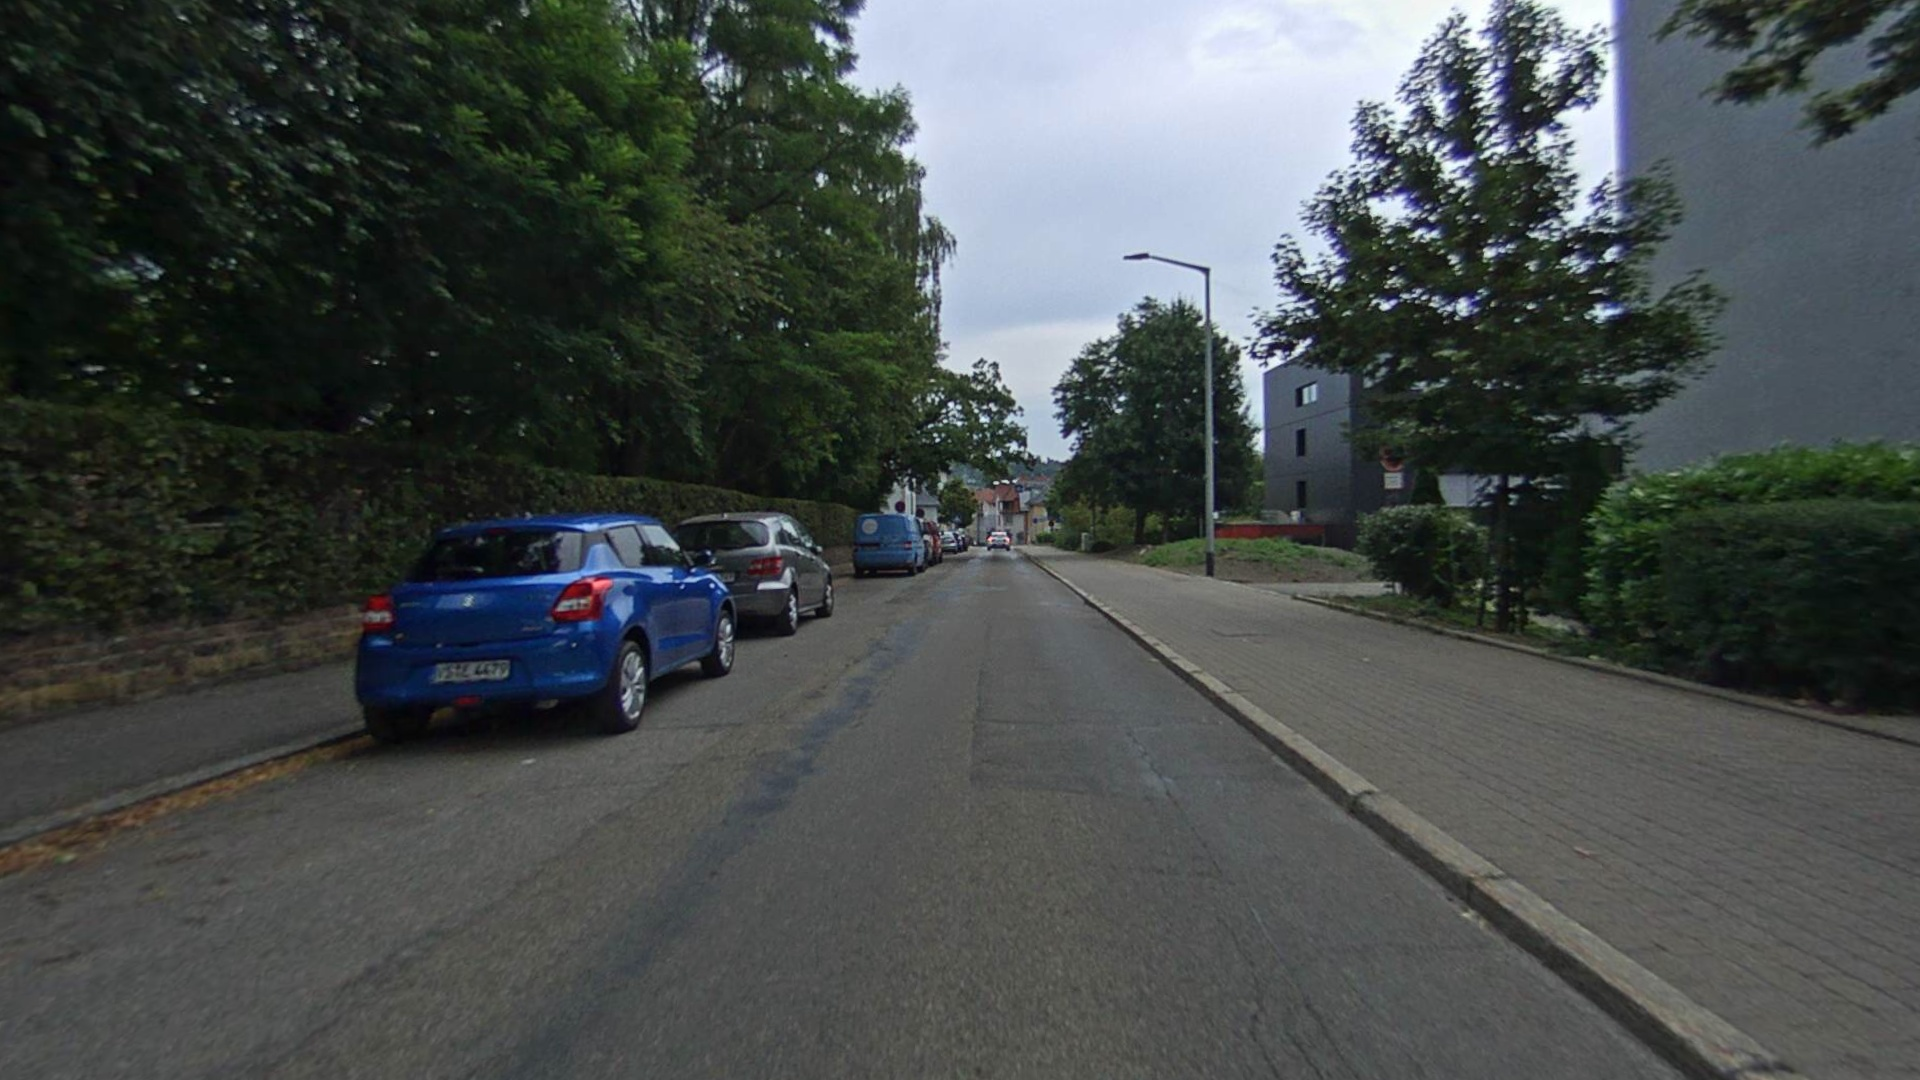car: (349, 512, 738, 735)
